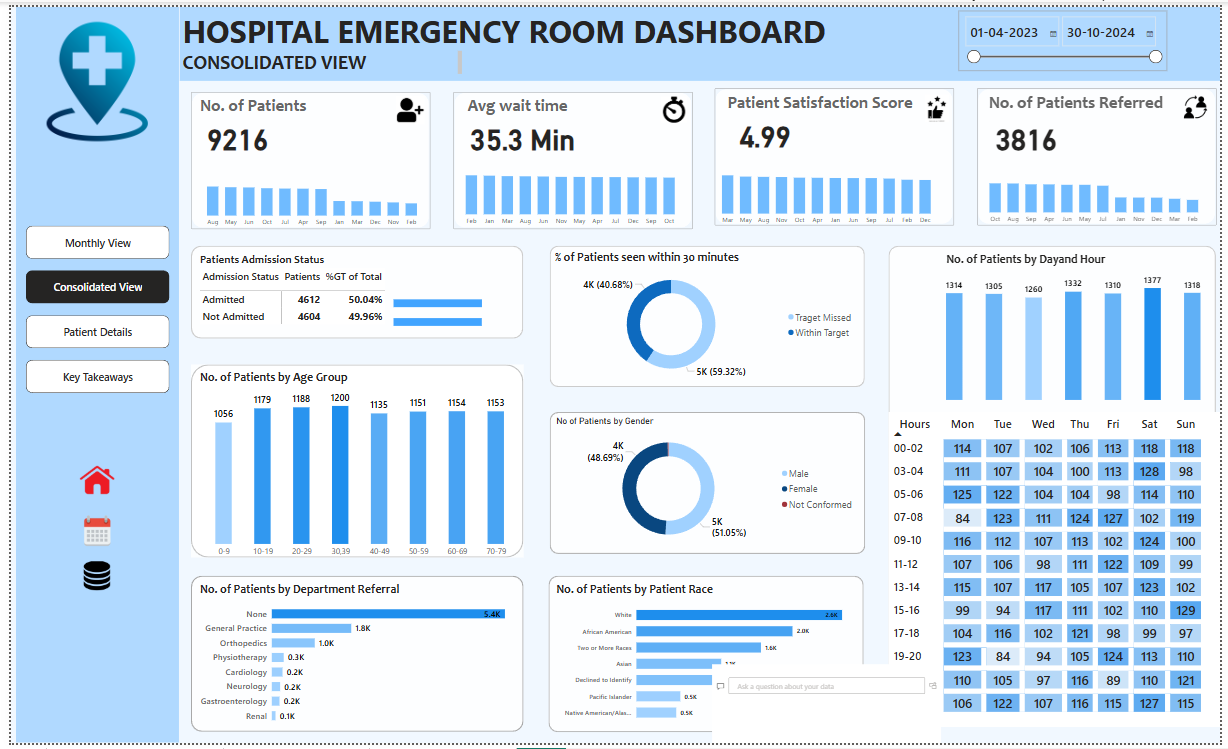

What the dashboard file says about the page in this screenshot:
{"tool":"powerbi","page":{"name":"Page 1","canvas":[2300,1400],"ordinal":0},"visuals":[{"type":"shape","box":[343.2,160.7,455,260.5],"z":0},{"type":"shape","box":[10,0,310,1399],"z":1000},{"type":"shape","box":[320.5,0,1980,140.5],"z":2000},{"type":"textbox","box":[321.3,0,1258.6,126.6],"z":3000},{"type":"textbox","box":[355.4,160.7,236.1,63.3],"z":4000},{"type":"card","fields":{"Values":["Hospital ER_Data.No. of Patients"]},"box":[355.4,199.6,153.4,92.5],"z":5000},{"type":"slicer","fields":{"Values":["Date Table.Year"]},"box":[2052.2,17,221.5,90.1],"z":6000},{"type":"slicer","fields":{"Values":["Date Table.Month"]},"box":[1799,17,231.3,90.1],"z":7000},{"type":"textbox","box":[321.3,77.9,299.4,56],"z":8000},{"type":"card","fields":{"Values":["Min(Date Table.Month & Year)"]},"box":[640.2,70.6,275.1,70.6],"z":9000},{"type":"areaChart","fields":{"Category":["Date Table.Date.Variation.Date Hierarchy.Day"],"Y":["Hospital ER_Data.No. of Patients"]},"box":[355.4,282.4,435.8,133.9],"z":10000},{"type":"shape","box":[841.2,160.7,455,260.5],"z":11000},{"type":"textbox","box":[864.2,160.7,990.8,63.3],"z":12000},{"type":"card","fields":{"Values":["Hospital ER_Data.Avg wait time"]},"box":[842.3,199.6,262.9,92.5],"z":13000},{"type":"areaChart","fields":{"Category":["Date Table.Date.Variation.Date Hierarchy.Day"],"Y":["Avg(Hospital ER_Data.Patient Waittime)"]},"box":[852,282.4,435.8,133.9],"z":14000},{"type":"shape","box":[1339.1,155.1,455,260.5],"z":15000},{"type":"textbox","box":[1358.4,155.8,394.4,63.3],"z":16000},{"type":"card","fields":{"Values":["Hospital ER_Data.Satisfaction Score"]},"box":[1358.4,194.8,153.4,92.5],"z":17000},{"type":"areaChart","fields":{"Category":["Date Table.Date.Variation.Date Hierarchy.Day"],"Y":["Hospital ER_Data.Satisfaction Score"]},"box":[1339,285.8,435.8,133.9],"z":18000},{"type":"shape","box":[1837,155.4,455,260.5],"z":19000},{"type":"textbox","box":[1855,155.8,374.9,63.3],"z":20000},{"type":"card","fields":{"Values":["Hospital ER_Data.No of Patients Reffered"]},"box":[1855,199.6,153.4,92.5],"z":21000},{"type":"shape","box":[342.6,455.3,631.9,176.6],"z":21500},{"type":"areaChart","fields":{"Category":["Date Table.Date.Variation.Date Hierarchy.Day"],"Y":["Hospital ER_Data.No of Patients Reffered"]},"box":[1835.8,286.1,435.8,133.9],"z":22000},{"type":"shape","box":[1022.4,465,600,270],"z":23000},{"type":"pivotTable","title":"Patients Admission Status","fields":{"Rows":["Hospital ER_Data.Admission Status"],"Values":["Hospital ER_Data.No. of Patients","Divide(Hospital ER_Data.No. of Patients, ScopedEval(Hospital ER_Data.No. of Patients, []))"]},"box":[355.3,466,597.9,166],"z":24000},{"type":"barChart","fields":{"Category":["Hospital ER_Data.Admission Status"],"Y":["Hospital ER_Data.No. of Patients"]},"box":[723,525.8,228.8,107.1],"z":25000},{"type":"shape","box":[343.2,679.2,632.9,367.6],"z":26000},{"type":"clusteredColumnChart","fields":{"Category":["Hospital ER_Data.Age Group"],"Y":["Hospital ER_Data.No. of Patients"]},"box":[355.4,679.2,618.3,367.6],"z":27000},{"type":"shape","box":[343.2,1080.9,632.9,297],"z":28000},{"type":"barChart","fields":{"Category":["Hospital ER_Data.Department Referral"],"Y":["Hospital ER_Data.No. of Patients"]},"box":[355.4,1093,618.3,280],"z":29000},{"type":"donutChart","title":"% of Patients seen within 30 minutes","fields":{"Category":["Hospital ER_Data.Waittime Status"],"Y":["Hospital ER_Data.No. of Patients"]},"box":[1029.7,472.3,581.8,258],"z":31000},{"type":"shape","box":[1023.9,769.4,600,270],"z":32000},{"type":"donutChart","title":"No of Patients by Gender","fields":{"Category":["Hospital ER_Data.Patient Gender"],"Y":["Hospital ER_Data.No. of Patients"]},"box":[1031.2,776.7,581.8,258],"z":33000},{"type":"shape","box":[1023.4,1080.9,600,297.9],"z":34000},{"type":"barChart","fields":{"Y":["Hospital ER_Data.No. of Patients"],"Category":["Hospital ER_Data.Patient Race"]},"box":[1031.9,1093.6,578.7,276.6],"z":35000}]}

Visuals, with their boxes in screenshot pixels (x1, y1, x2, y2), scaled from the page's 2300x1400 canvas onto the 1228x749 screenshot:
shape: box=[183, 86, 426, 225]
shape: box=[5, 0, 171, 748]
shape: box=[171, 0, 1227, 75]
textbox: box=[172, 0, 844, 68]
textbox: box=[190, 86, 316, 120]
card - Hospital ER_Data.No. of Patients: box=[190, 107, 272, 156]
slicer - Date Table.Year: box=[1096, 9, 1214, 57]
slicer - Date Table.Month: box=[961, 9, 1084, 57]
textbox: box=[172, 42, 331, 72]
card - Min(Date Table.Month & Year): box=[342, 38, 489, 76]
areaChart - Date Table.Date.Variation.Date Hierarchy.Day x Hospital ER_Data.No. of Patients: box=[190, 151, 422, 223]
shape: box=[449, 86, 692, 225]
textbox: box=[461, 86, 990, 120]
card - Hospital ER_Data.Avg wait time: box=[450, 107, 590, 156]
areaChart - Date Table.Date.Variation.Date Hierarchy.Day x Avg(Hospital ER_Data.Patient Waittime): box=[455, 151, 688, 223]
shape: box=[715, 83, 958, 222]
textbox: box=[725, 83, 936, 117]
card - Hospital ER_Data.Satisfaction Score: box=[725, 104, 807, 154]
areaChart - Date Table.Date.Variation.Date Hierarchy.Day x Hospital ER_Data.Satisfaction Score: box=[715, 153, 948, 225]
shape: box=[981, 83, 1224, 223]
textbox: box=[990, 83, 1191, 117]
card - Hospital ER_Data.No of Patients Reffered: box=[990, 107, 1072, 156]
shape: box=[183, 244, 520, 338]
areaChart - Date Table.Date.Variation.Date Hierarchy.Day x Hospital ER_Data.No of Patients Reffered: box=[980, 153, 1213, 225]
shape: box=[546, 249, 866, 393]
"Patients Admission Status" pivotTable: box=[190, 249, 509, 338]
barChart - Hospital ER_Data.Admission Status x Hospital ER_Data.No. of Patients: box=[386, 281, 508, 339]
shape: box=[183, 363, 521, 560]
clusteredColumnChart - Hospital ER_Data.Age Group x Hospital ER_Data.No. of Patients: box=[190, 363, 520, 560]
shape: box=[183, 578, 521, 737]
barChart - Hospital ER_Data.Department Referral x Hospital ER_Data.No. of Patients: box=[190, 585, 520, 735]
"% of Patients seen within 30 minutes" donutChart: box=[550, 253, 860, 391]
shape: box=[547, 412, 867, 556]
"No of Patients by Gender" donutChart: box=[551, 416, 861, 554]
shape: box=[546, 578, 867, 738]
barChart - Hospital ER_Data.No. of Patients x Hospital ER_Data.Patient Race: box=[551, 585, 860, 733]
